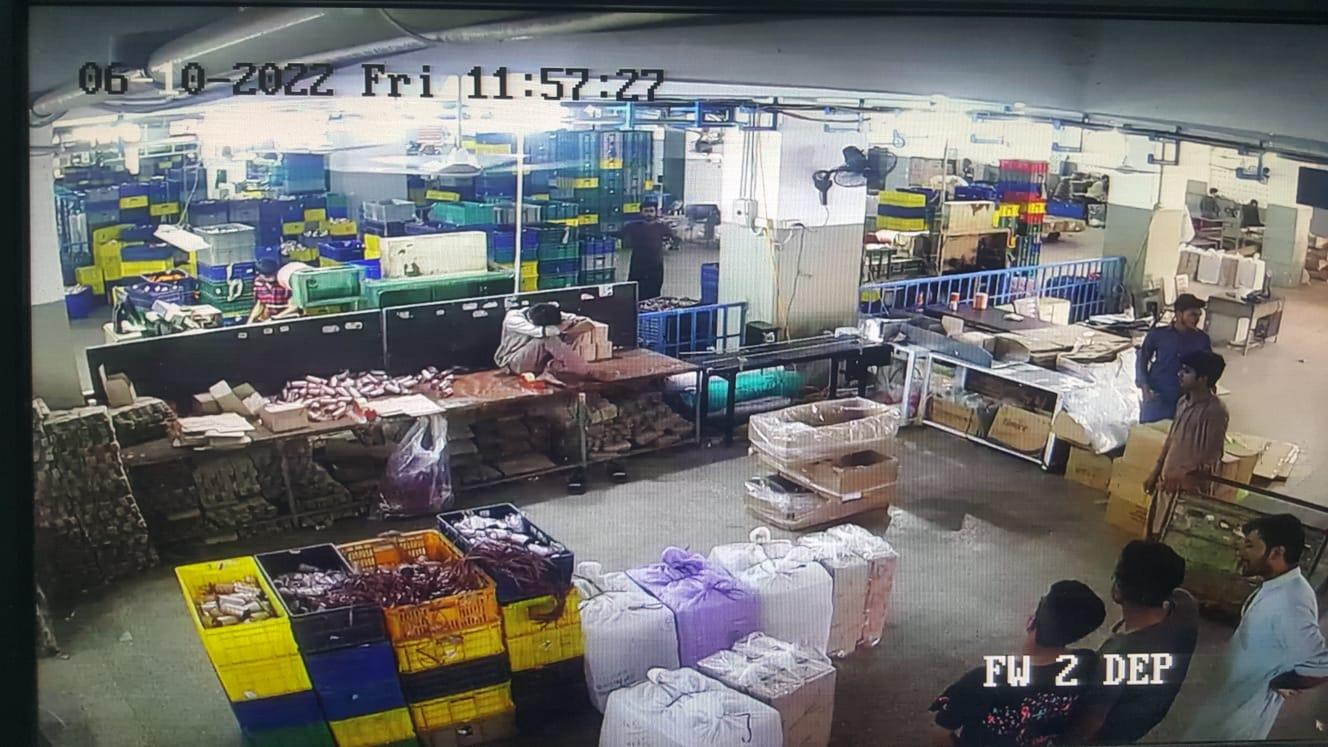person: (940, 576, 1113, 747), (1215, 514, 1328, 747), (1080, 536, 1205, 746), (1156, 350, 1233, 488), (1138, 290, 1215, 420), (626, 196, 679, 296)
